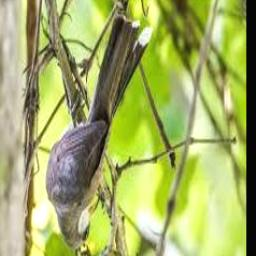Cuckoo: (45, 12, 154, 249)
